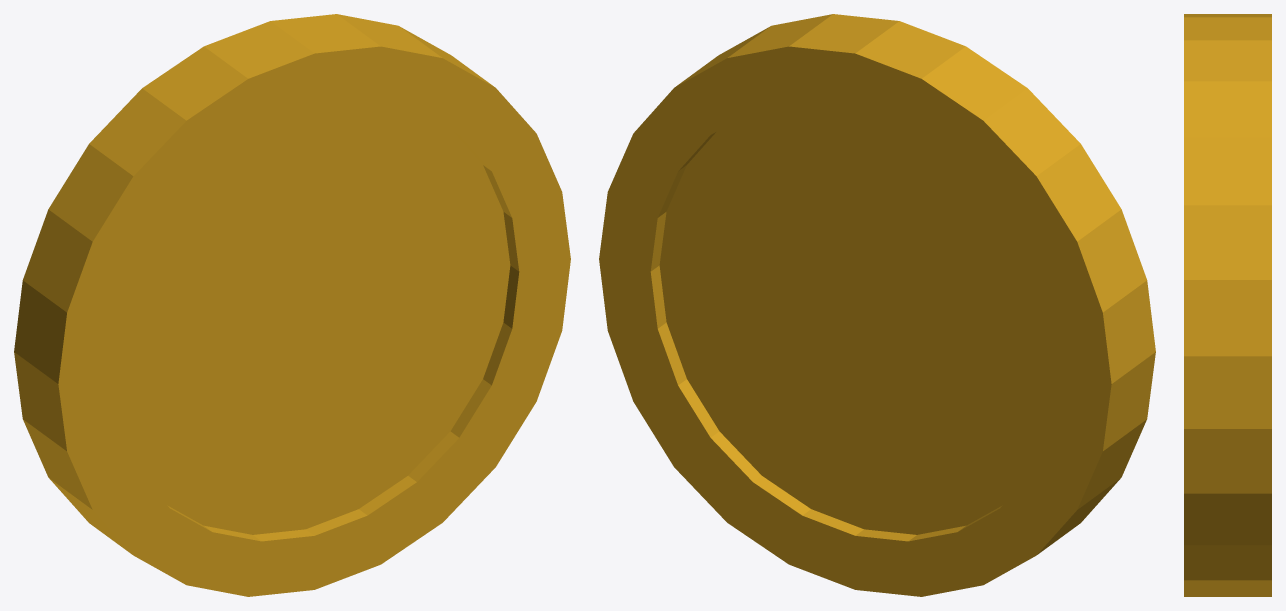
The model's file is Proto_Coin_01.fbx.
3 renders of one model, left to right at view 1: azimuth 30°, elevation 25°; view 2: azimuth 150°, elevation 25°; view 3: azimuth 270°, elevation 25°, orthographic.
Visible parts, largest first — view 1: Proto_Coin_01; view 2: Proto_Coin_01; view 3: Proto_Coin_01.
Boxes of the visible parts, box(x1,y1,x2,y2) form: Proto_Coin_01: box(14, 14, 570, 596); Proto_Coin_01: box(599, 14, 1155, 596); Proto_Coin_01: box(1184, 14, 1271, 596).
Bounding box in the file's own units: 0.5 × 0.5 × 0.075.
